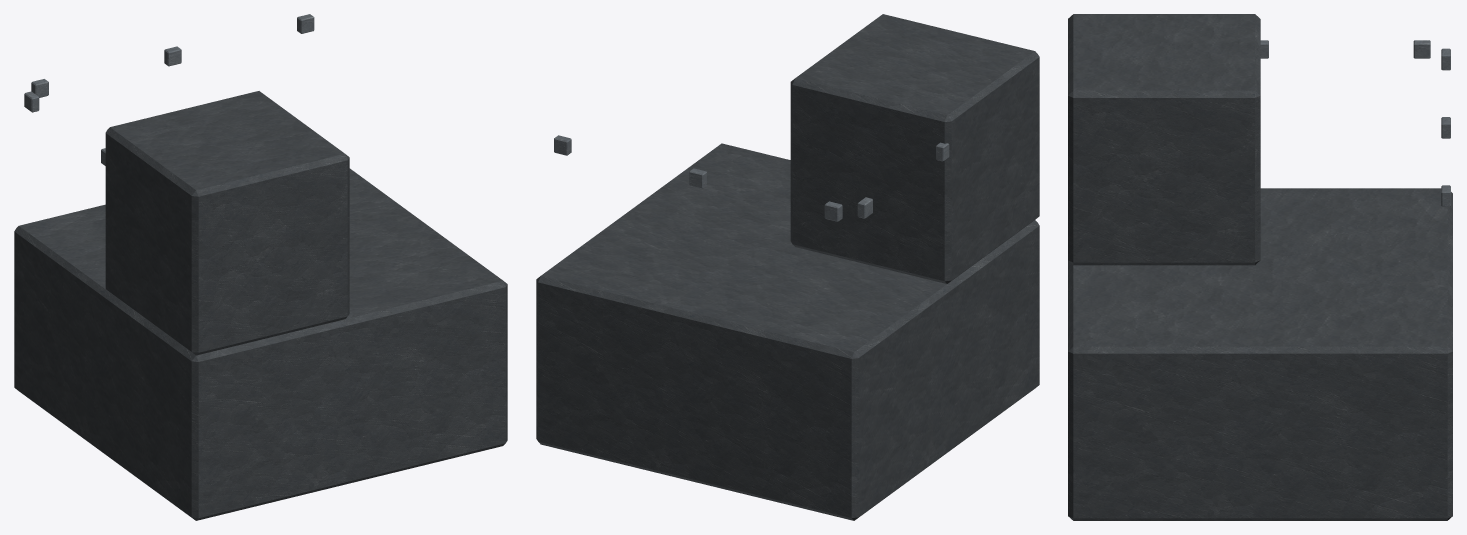
The model's file is train_sheet_metal_outer_corner.gltf.
The picture shows the model from 3 angles, left to right: view 1: azimuth 30°, elevation 25°; view 2: azimuth 150°, elevation 25°; view 3: azimuth 270°, elevation 25°; orthographic projection. The views are drawn at different scales.
Bounding box in the file's own units: 1 × 1 × 1.
Materials: 2 (2 with a texture image).
